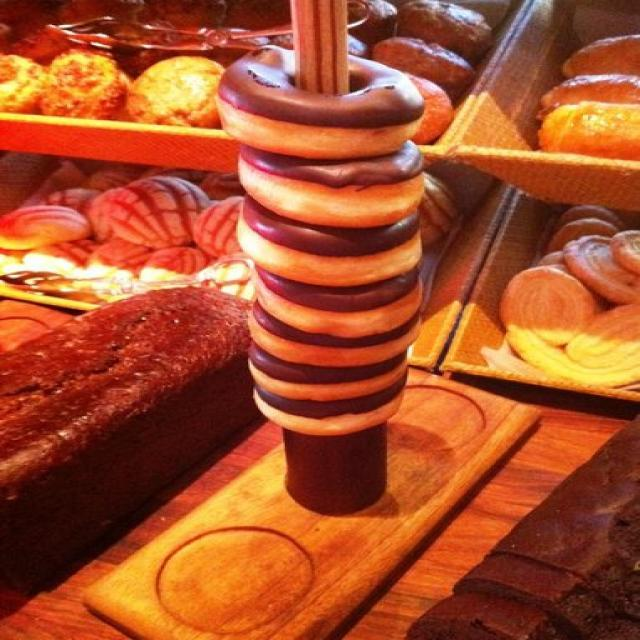Donuts: (206, 36, 452, 448)
